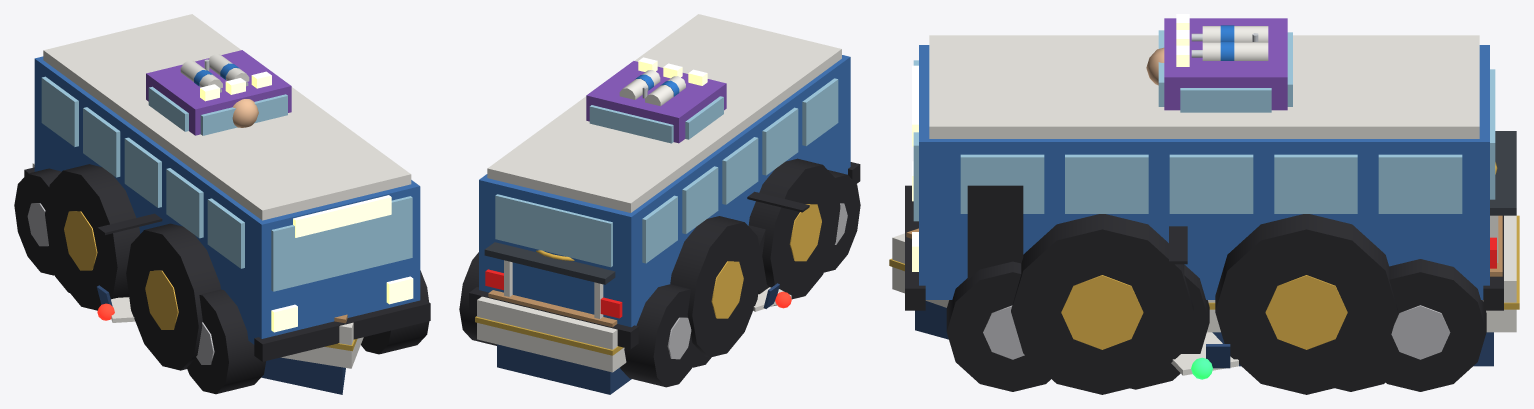
Rendered from hero-fleet.glb.
3 renders of one model, left to right at view 1: azimuth 30°, elevation 25°; view 2: azimuth 150°, elevation 25°; view 3: azimuth 270°, elevation 25°, orthographic. The views are drawn at different scales.
Size of the model in its own units: 1.9 by 1.56 by 3.02.
